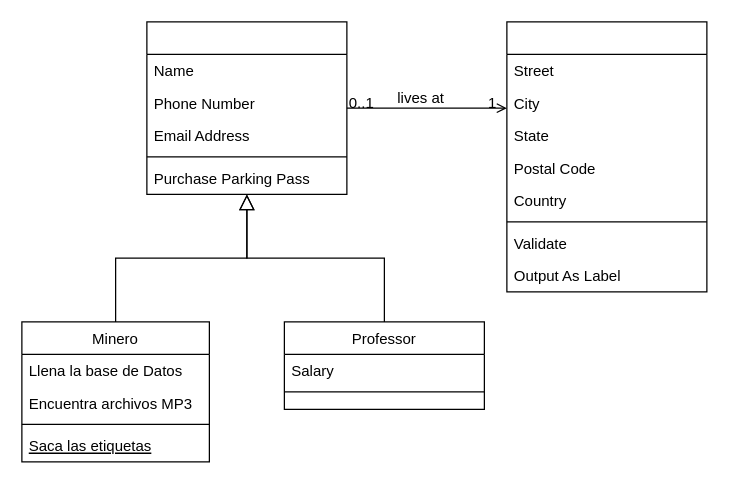
This 729x488 diagram has some shape labels left out. The shapes that lost their labels are listed below. From the top down, each one's box as (x1, y1, x2, y2) in pixels, then its label:
(146, 21, 347, 194): Base de Datos
(506, 21, 707, 292): Address
